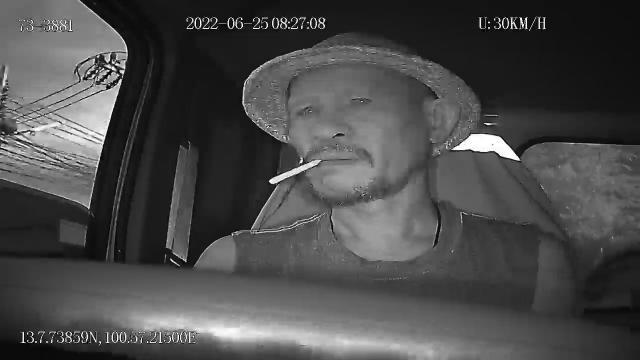SafeDriving: (342, 89, 378, 112), (292, 98, 324, 120)
Smoking: (268, 158, 322, 186)
